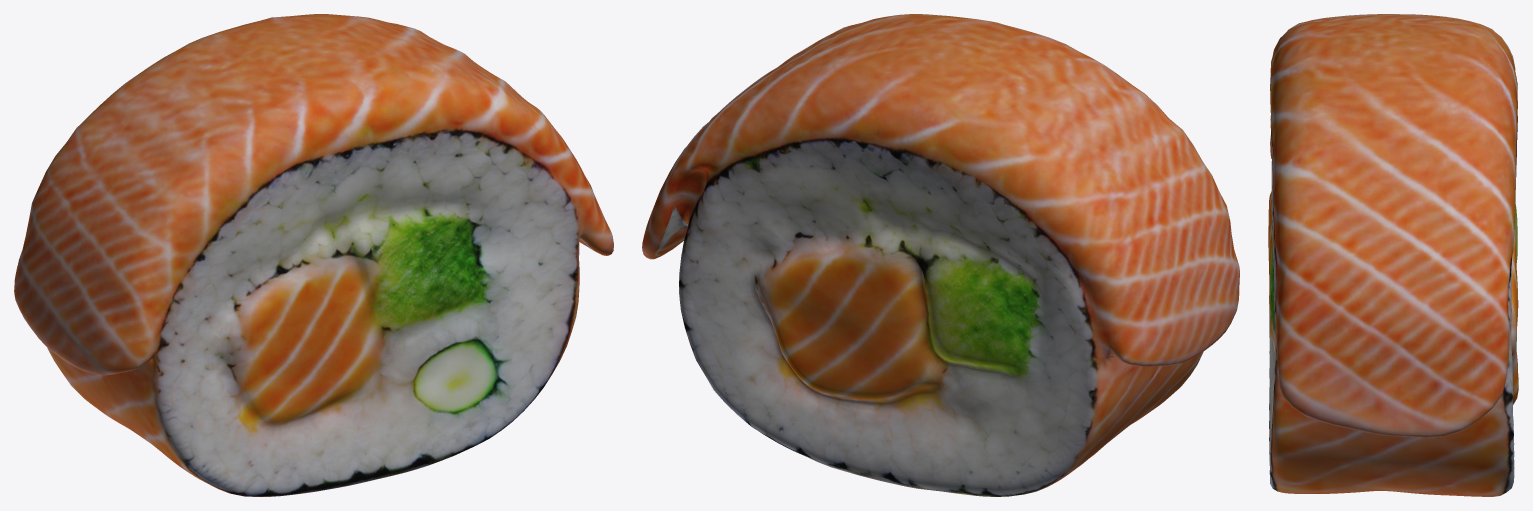
The model's file is sushi.glb.
3 renders of one model, left to right at view 1: azimuth 30°, elevation 25°; view 2: azimuth 150°, elevation 25°; view 3: azimuth 270°, elevation 25°, orthographic.
Visible parts, largest first — view 1: mesh_base_material_0; view 2: mesh_base_material_0; view 3: mesh_base_material_0.
Part boxes in pixels (box(x1,y1,x2,y2)): mesh_base_material_0: box(14, 14, 613, 496); mesh_base_material_0: box(642, 14, 1239, 496); mesh_base_material_0: box(1268, 14, 1518, 496).
Size of the model in its own units: 0.9998 by 0.7261 by 0.4115.
Materials: 1 (1 with a texture image).
